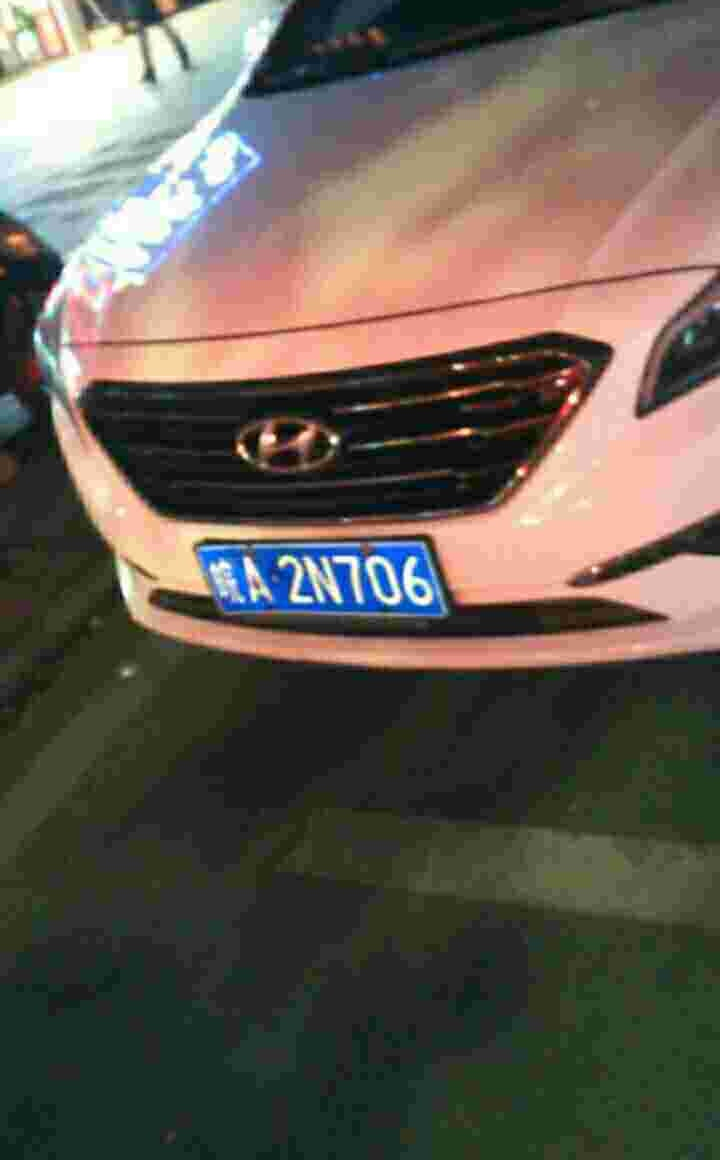plate: (192, 541, 454, 618)
